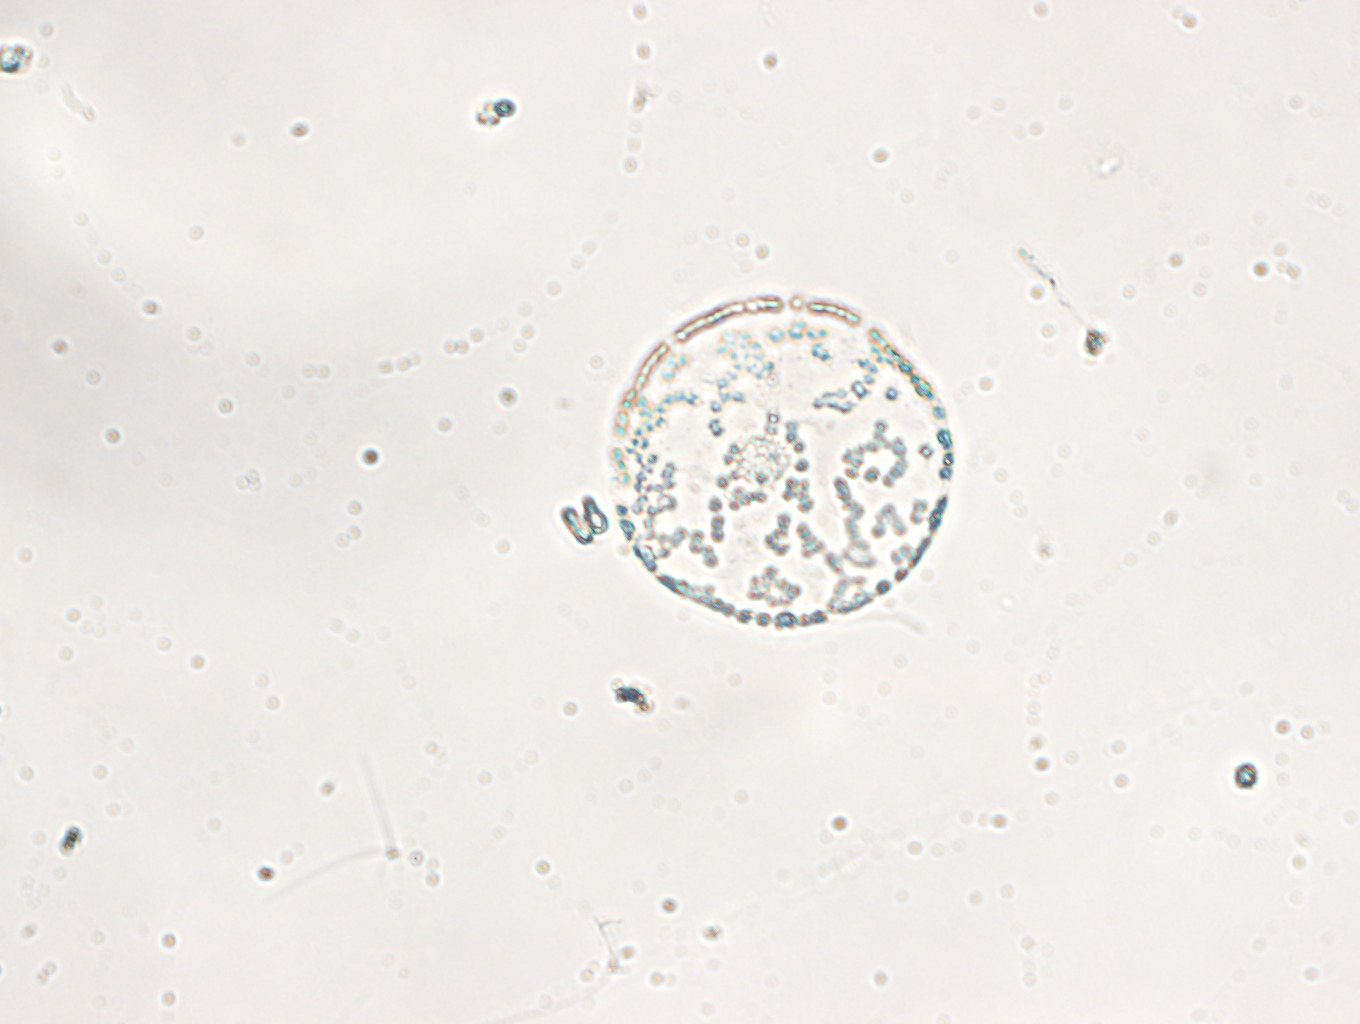coscinodiscus: (609, 296, 954, 629)
